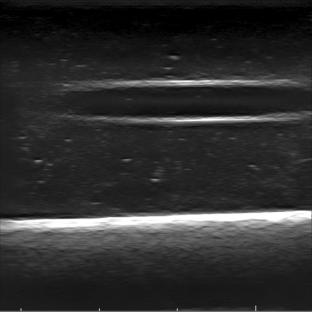vessel: (63, 77, 311, 126)
